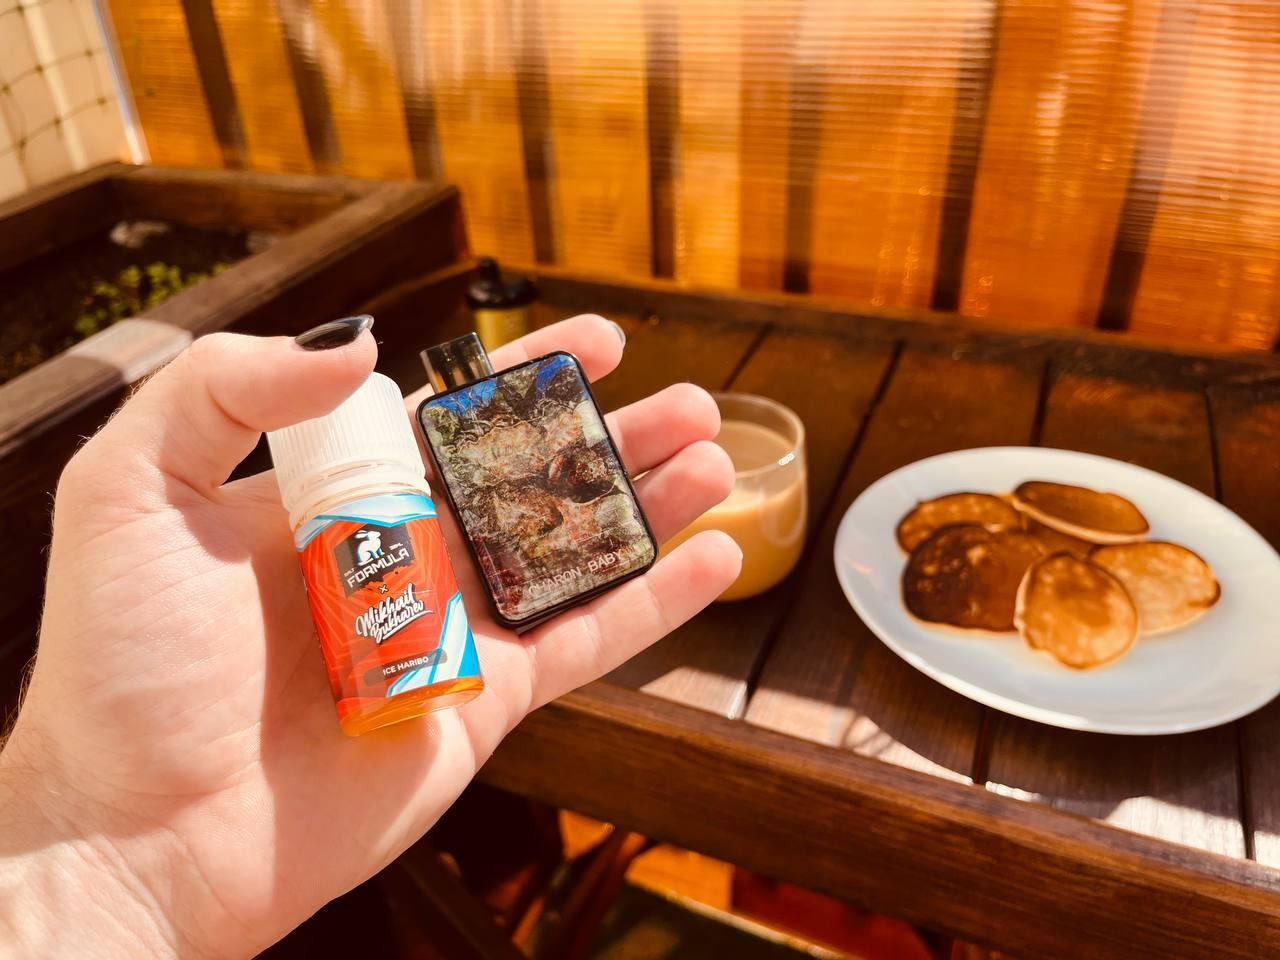Vape: (417, 333, 658, 631)
